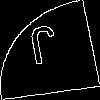J: (24, 24, 63, 76)
